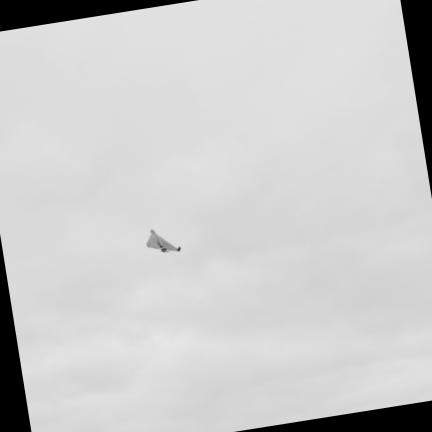Shahed: (146, 228, 181, 253)
